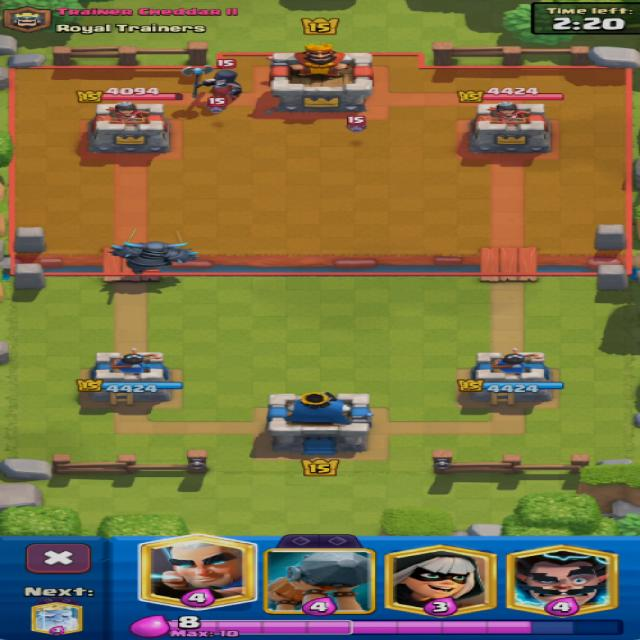Enemy-Bat: (347, 124, 365, 132), (209, 106, 224, 112)
Enemy-KingTower: (270, 45, 372, 113)
Enemy-NightWitch: (179, 64, 243, 102)
Enemy-PrincessTower: (88, 102, 170, 154), (470, 102, 550, 154)
